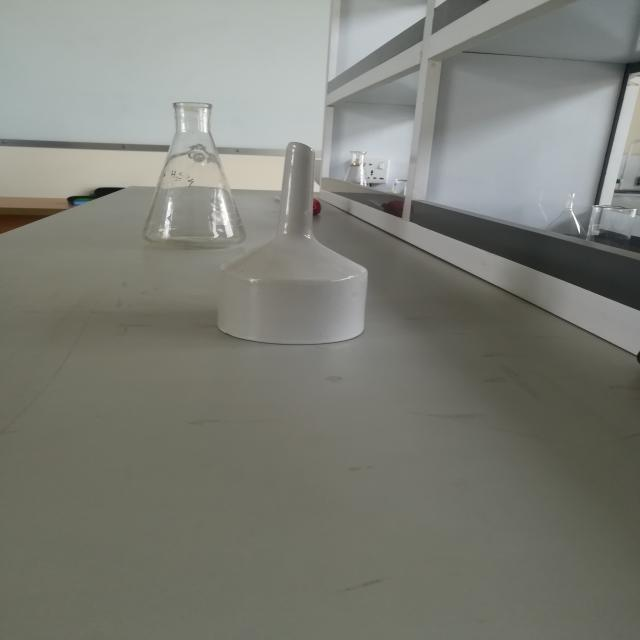Buchner_Funnel: (170, 109, 418, 367)
